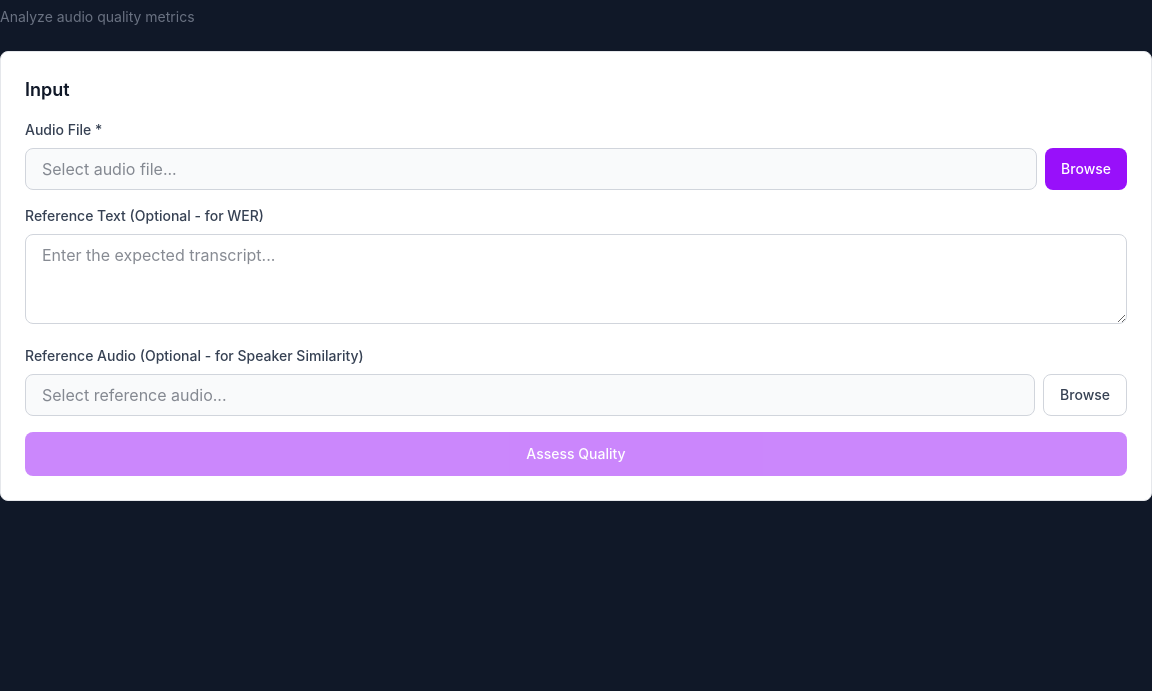
it: QualityDashboard › Optional Metrics › should display WER when available
Click the button with aria-label "browse audio file": coordinates (1086, 169) top-left (1045, 148), bottom-right (1127, 190)
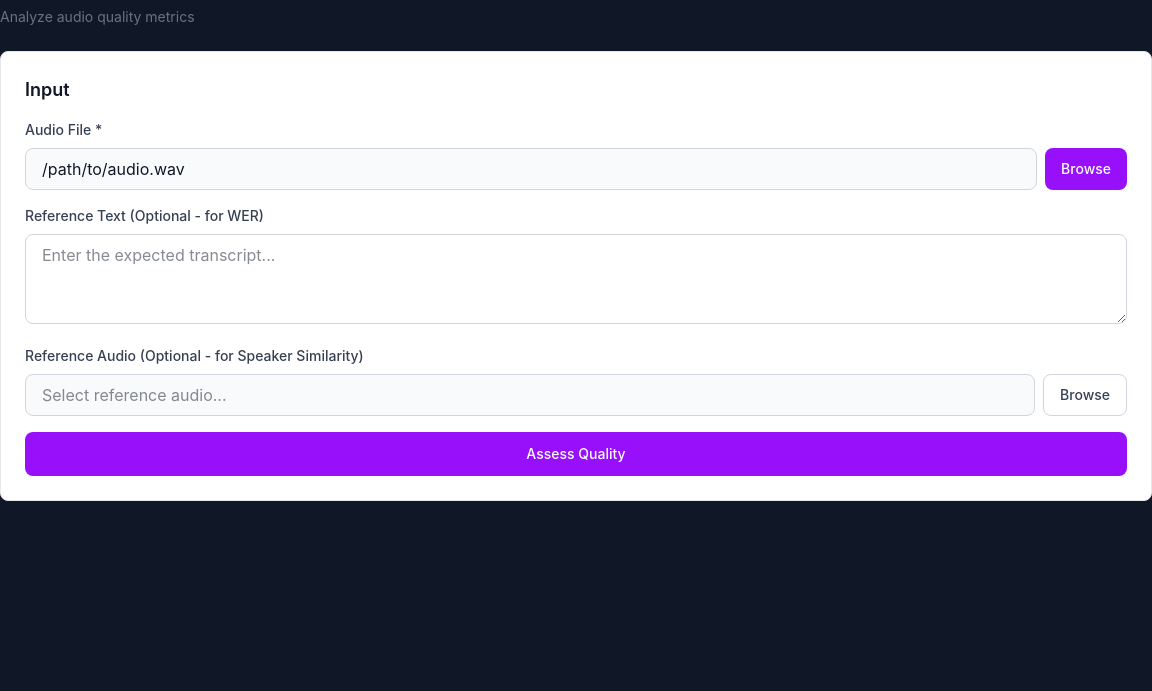
Check: the button "Assess Quality" is enabled
Click the button "Assess Quality": coordinates (576, 454) top-left (25, 432), bottom-right (1127, 476)
(page scrolled)
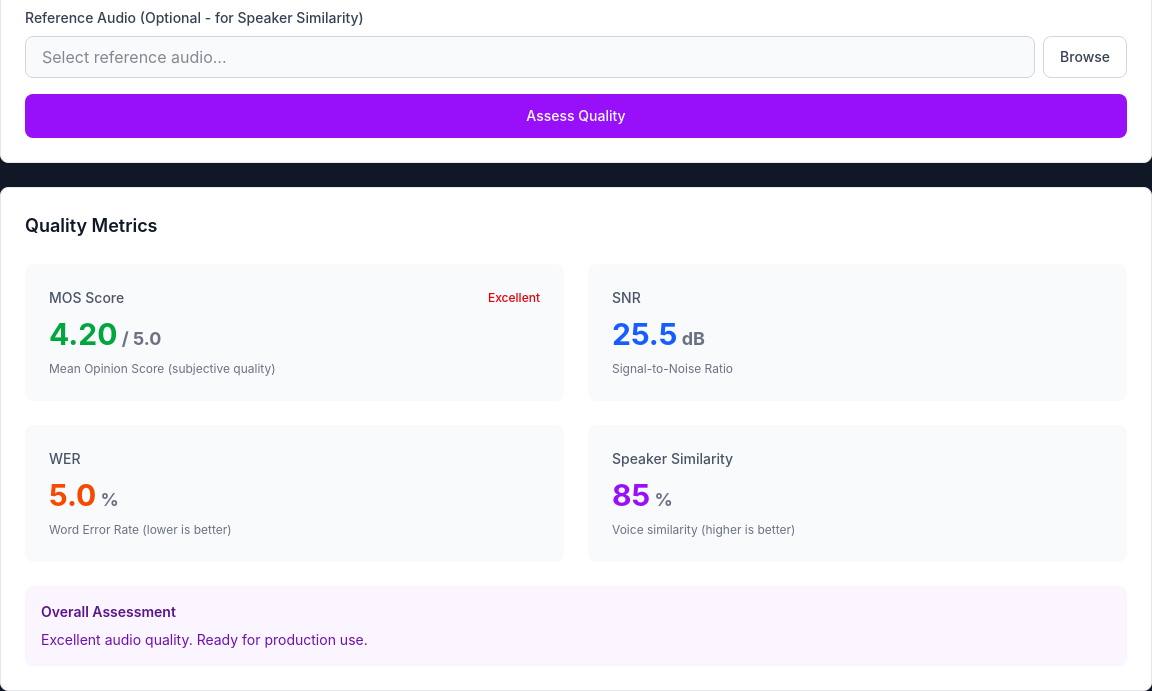
Check: the text "Word Error Rate (lower is better)" is shown, box top-left (49, 522), bottom-right (232, 537)
Check: the text "5.0" is shown, box top-left (49, 477), bottom-right (96, 513)
